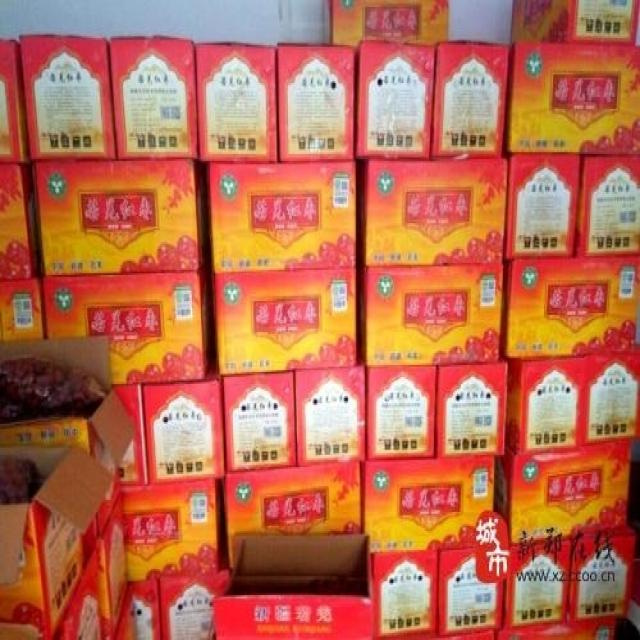box: (2, 443, 118, 637), (31, 157, 202, 272), (42, 268, 213, 383), (0, 335, 137, 467), (212, 528, 374, 638), (209, 160, 357, 275), (210, 267, 359, 374), (358, 261, 508, 367), (357, 160, 508, 264), (226, 458, 362, 573), (492, 439, 634, 547), (505, 42, 639, 156), (503, 256, 639, 356), (506, 351, 639, 451), (362, 454, 496, 549), (20, 35, 115, 158), (146, 344, 225, 483), (111, 38, 200, 157), (122, 477, 221, 580), (192, 44, 279, 160), (356, 44, 435, 161), (431, 43, 510, 158), (295, 347, 367, 467), (279, 46, 353, 162), (505, 149, 582, 259), (223, 371, 296, 471), (363, 365, 438, 459), (435, 361, 507, 456), (574, 154, 639, 255), (568, 524, 637, 619), (371, 545, 437, 637), (437, 541, 504, 631), (505, 537, 572, 625), (510, 1, 639, 43), (93, 497, 131, 638), (332, 1, 449, 46), (160, 570, 231, 637), (0, 161, 40, 275), (52, 557, 105, 637), (0, 39, 29, 164), (1, 273, 48, 342), (116, 385, 148, 482), (113, 578, 165, 637), (502, 616, 614, 638), (438, 627, 498, 638)
